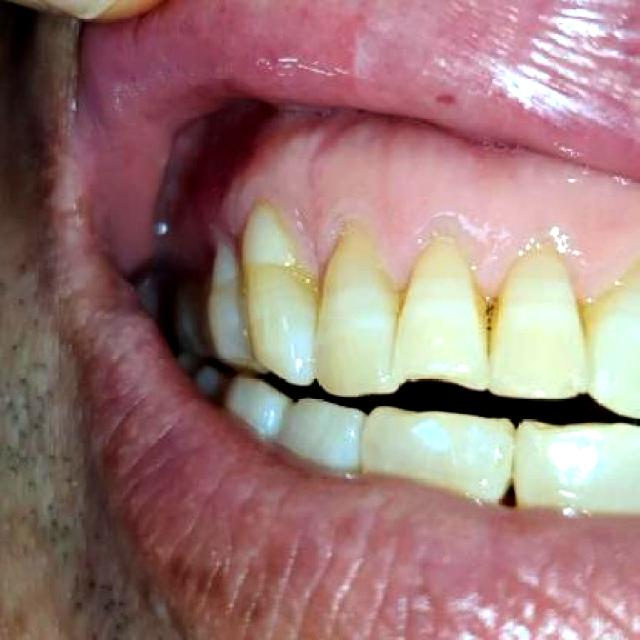Plaque: (222, 198, 620, 306)
